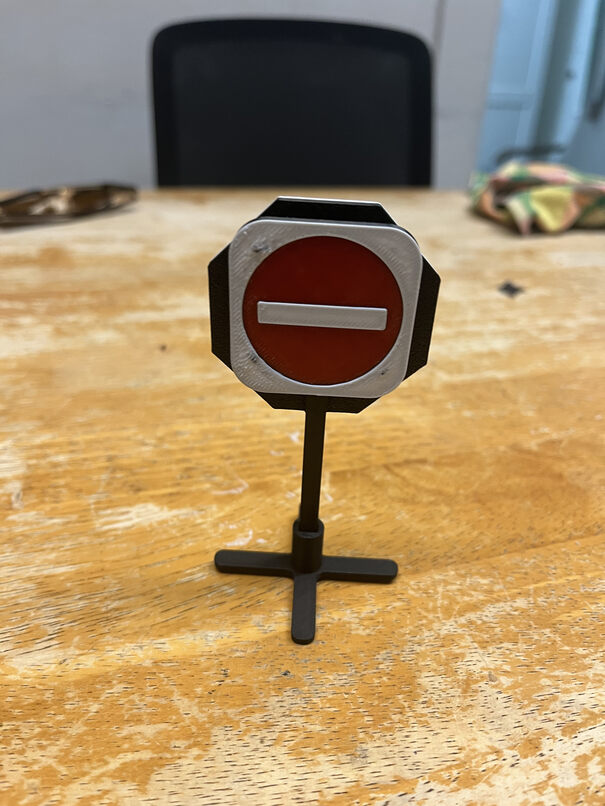sign_noentry: (223, 214, 421, 403)
